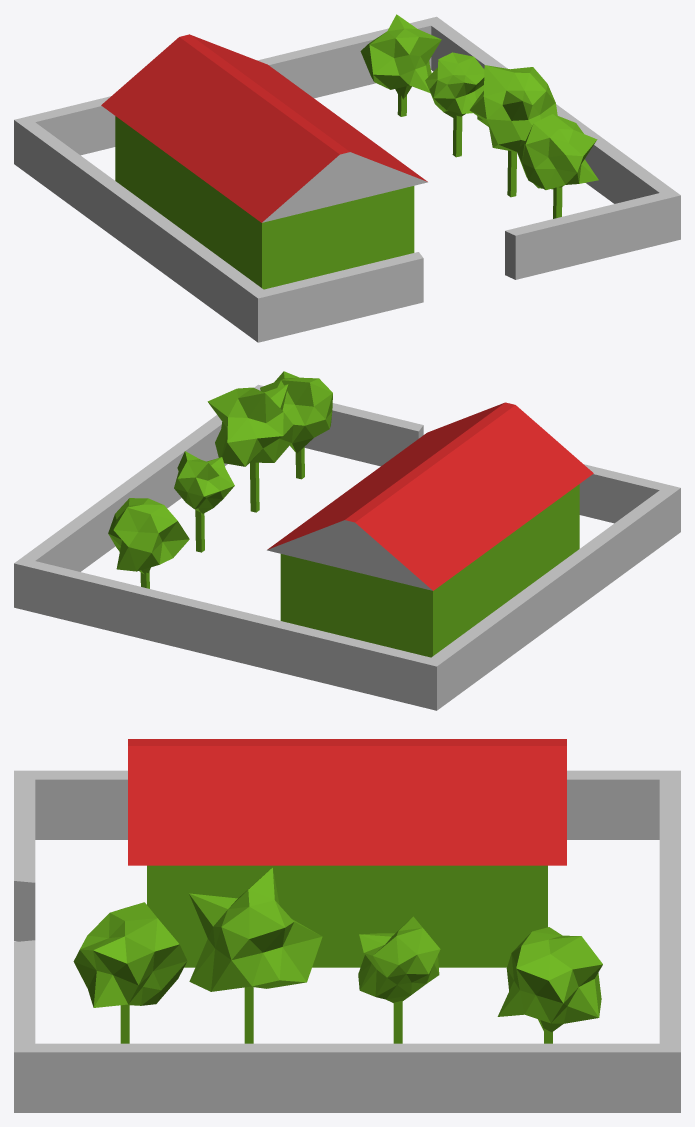
The model's file is house2.fbx.
3 views of the same model, one above another, from view 1: azimuth 30°, elevation 25°; view 2: azimuth 150°, elevation 25°; view 3: azimuth 270°, elevation 25° (orthographic). The views are drawn at different scales.
Visible parts, largest first — view 1: house_1; view 2: house_1; view 3: house_1.
Boxes of the visible parts, box(x1,y1,x2,y2) form: house_1: box(14, 14, 680, 342); house_1: box(14, 371, 680, 710); house_1: box(14, 739, 680, 1112).
Bounding box in the file's own units: 185 × 54.25 × 185.
